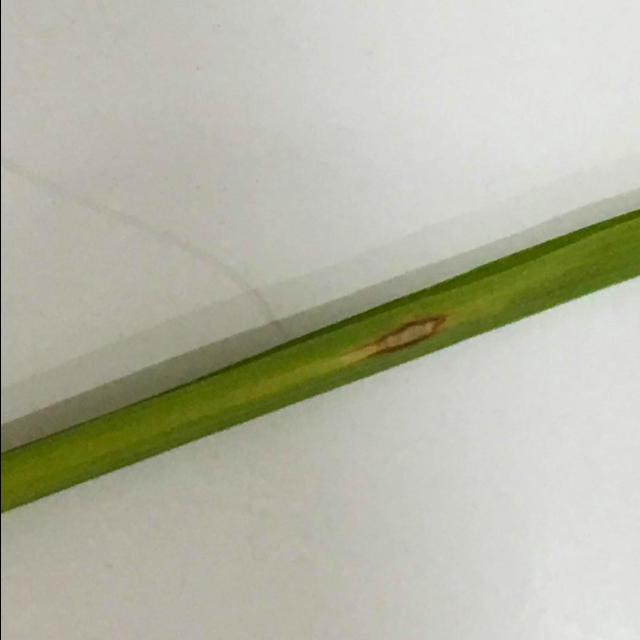Leaf blast: (0, 168, 640, 516)
